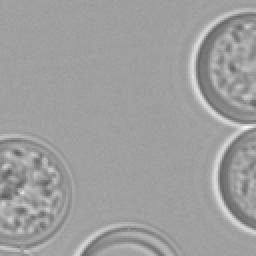picoshell: (0, 136, 70, 246), (196, 12, 254, 122), (218, 128, 254, 228), (74, 222, 178, 254), (0, 244, 32, 254)
